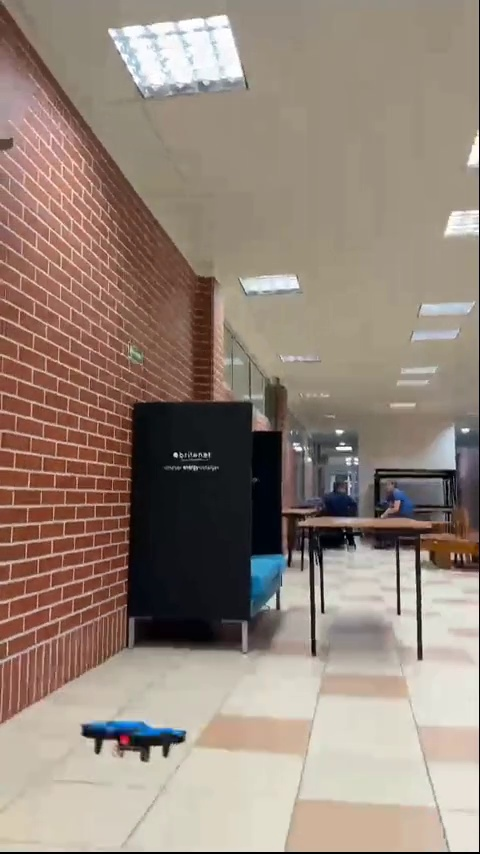drone: (86, 720, 191, 763)
no vest: (320, 479, 362, 527), (375, 475, 413, 525)
